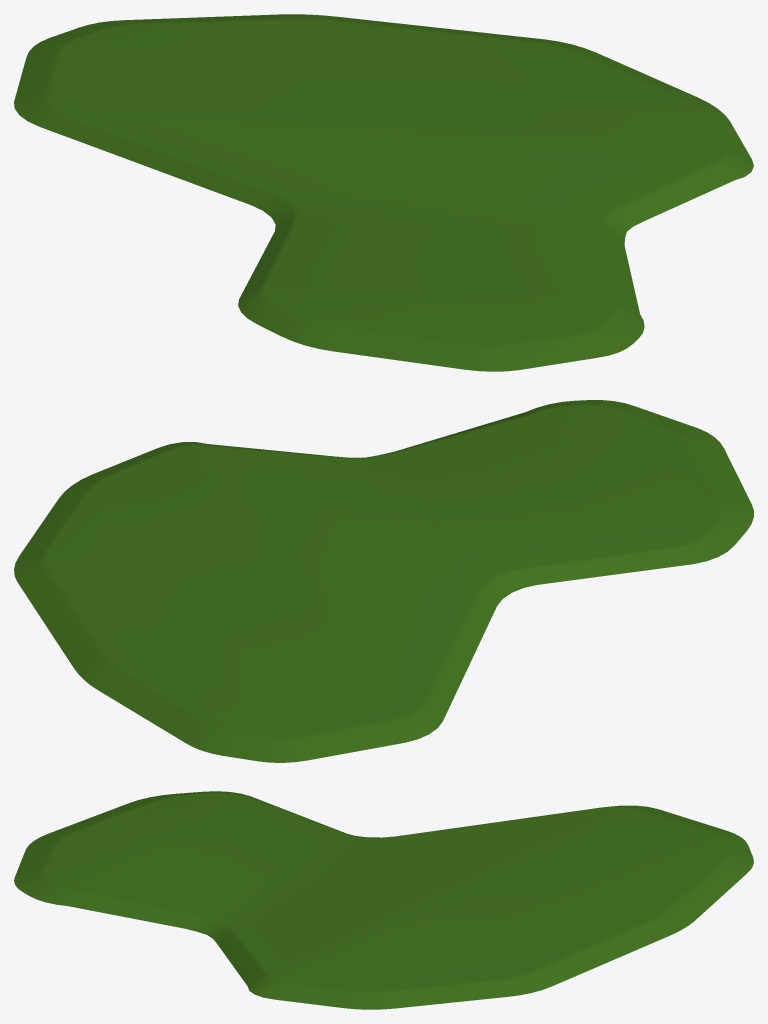
The model's file is GroundPadding04_2.fbx.
The picture shows the model from 3 angles, top to bottom: view 1: azimuth 30°, elevation 25°; view 2: azimuth 150°, elevation 25°; view 3: azimuth 270°, elevation 25°; orthographic projection. The views are drawn at different scales.
Parts seen in each view (by area): view 1: LOD0; view 2: LOD0; view 3: LOD0.
Boxes of the visible parts, box(x1,y1,x2,y2) form: LOD0: box(14, 14, 753, 371); LOD0: box(14, 400, 753, 762); LOD0: box(14, 791, 753, 1009).
Size of what is drawn, in the model's own units: 1238 by 1772 by 20.49.
1 material, 1 textured.
